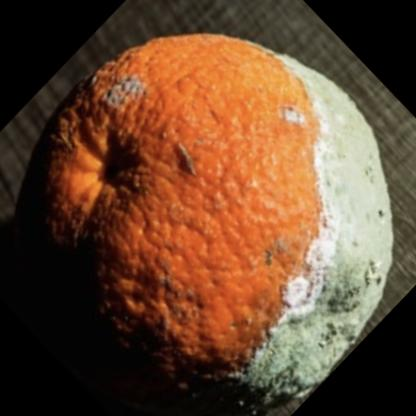rotten: (20, 37, 394, 416)
